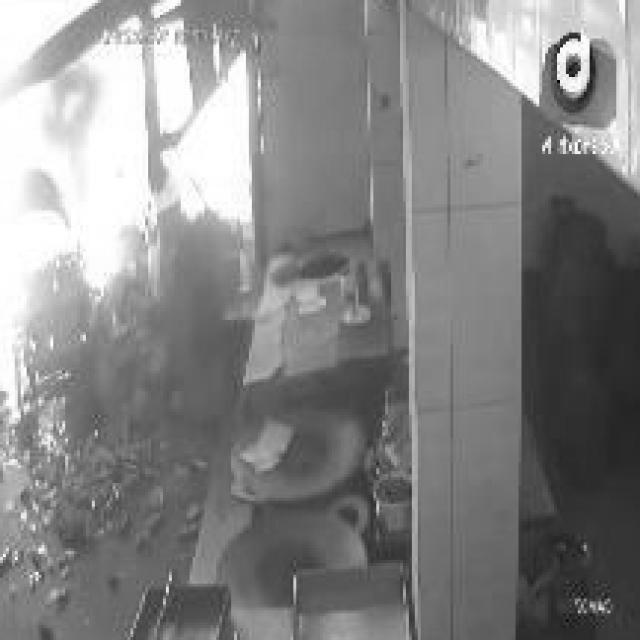smoke: (59, 6, 261, 323), (0, 0, 98, 427)
